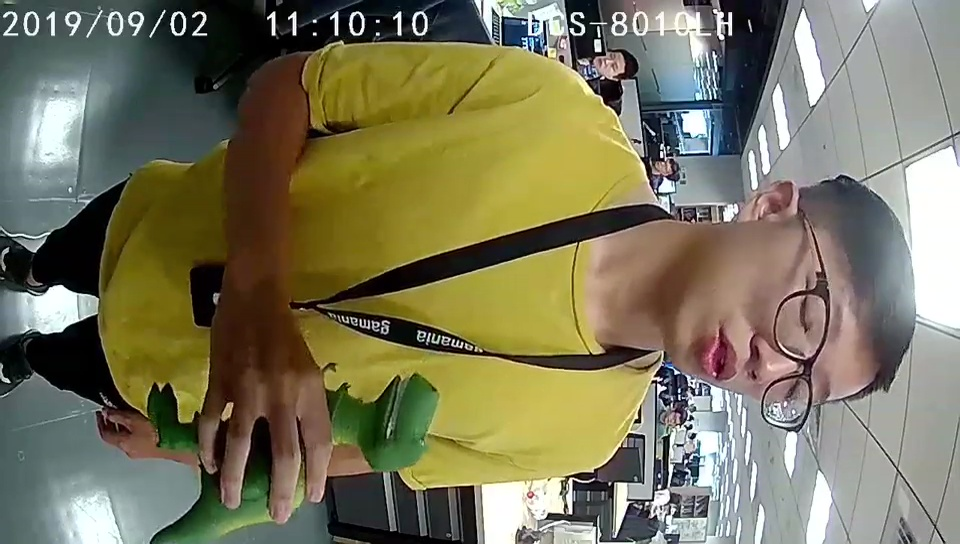rex: (182, 373, 438, 527)
